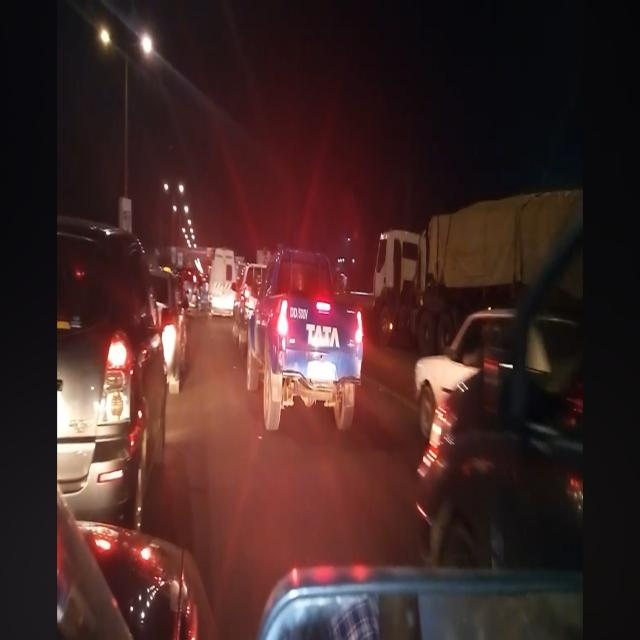camion: (375, 190, 584, 358)
fourgon: (210, 250, 239, 318)
particulier: (59, 217, 167, 529), (247, 250, 364, 431), (416, 309, 517, 439), (150, 269, 189, 396), (234, 263, 267, 350), (180, 266, 209, 315)
